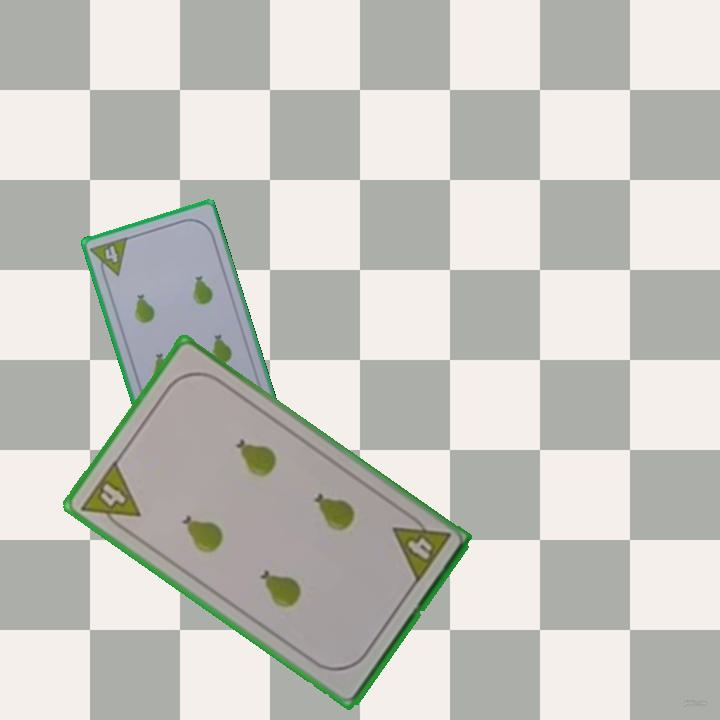4p: (77, 457, 143, 537), (389, 508, 453, 586), (87, 233, 130, 282)
